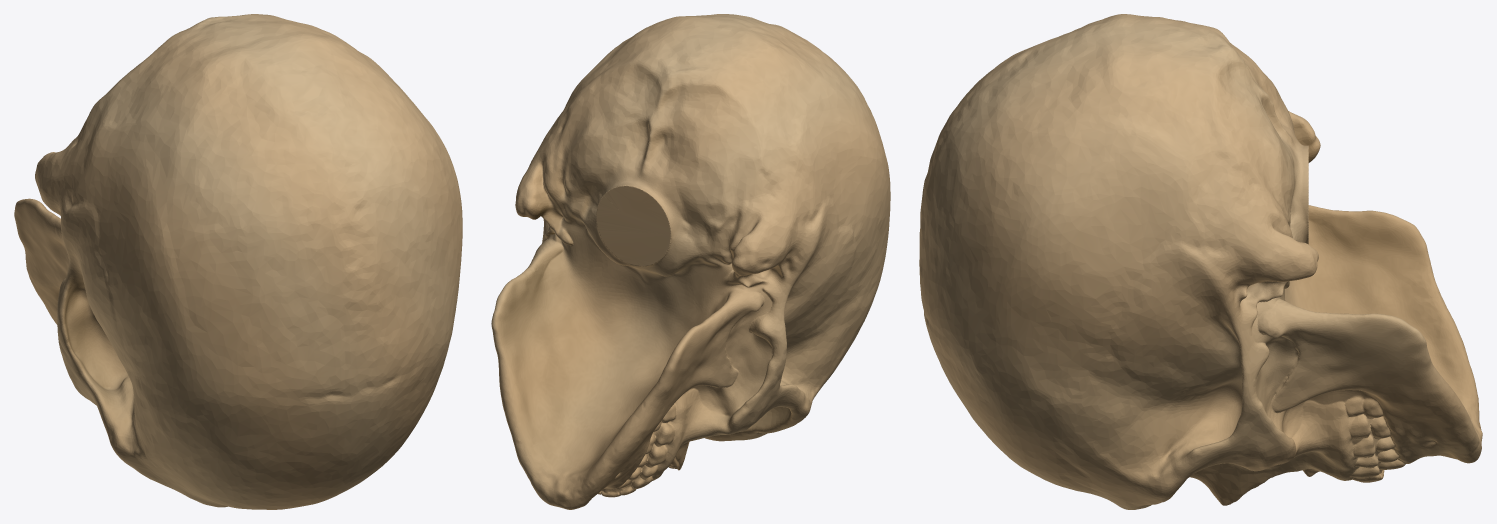
Rendered from sapiens-modern.glb.
3 renders of one model, left to right at view 1: azimuth 30°, elevation 25°; view 2: azimuth 150°, elevation 25°; view 3: azimuth 270°, elevation 25°, orthographic. The views are drawn at different scales.
Bounding box in the file's own units: 36.58 × 52.02 × 56.73.
